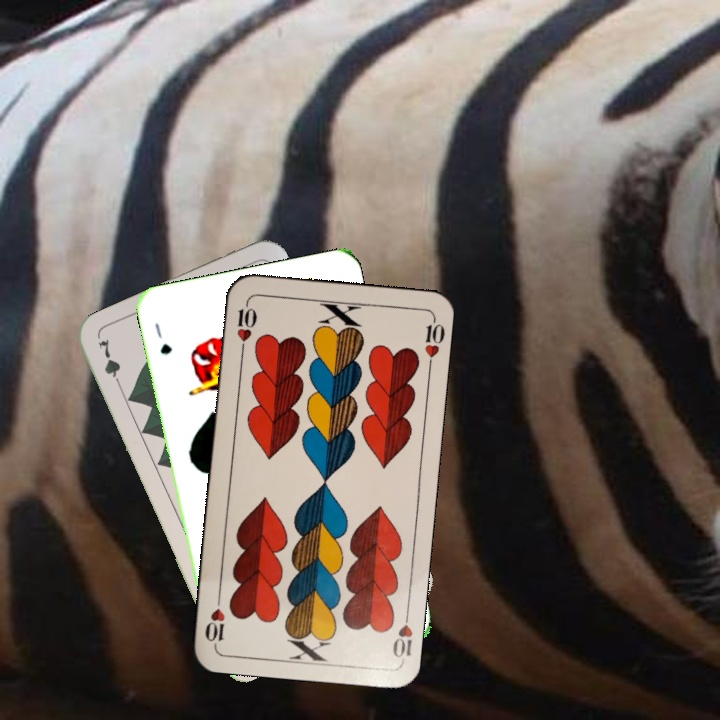G7: (94, 335, 126, 393)
GU: (150, 319, 175, 357)
H10: (232, 298, 259, 357), (388, 605, 415, 664)
